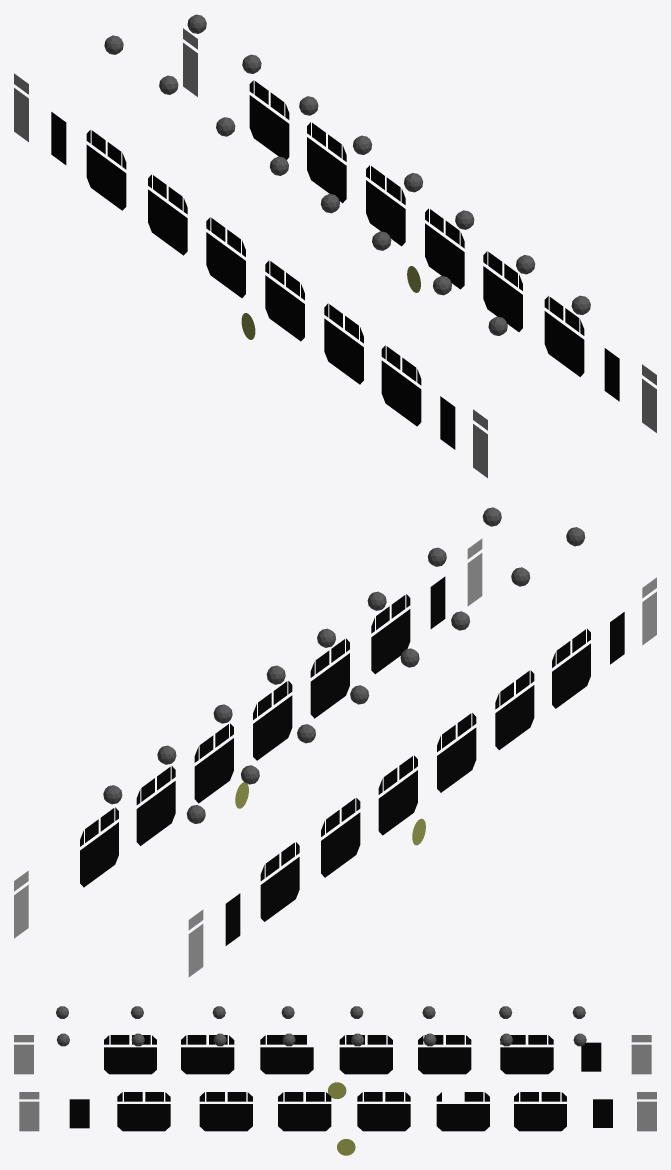
Rendered from lms-period3-open-composite-windows.dae.
3 renders of one model, top to bottom at view 1: azimuth 30°, elevation 25°; view 2: azimuth 150°, elevation 25°; view 3: azimuth 270°, elevation 25°, orthographic. The views are drawn at different scales.
Visible parts, largest first — view 1: Plane_229, Plane_233, Plane_218, Plane_213, Plane_225, Plane_231, Plane_230, Plane_215, Plane_216, Plane_232, Plane_222, Plane_214 (+7 smaller); view 2: Plane_216, Plane_225, Plane_230, Plane_232, Plane_222, Plane_214, Plane_215, Plane_231, Plane_229, Plane_218, Plane_213, Plane_233 (+6 smaller); view 3: Plane_216, Plane_222, Plane_215, Plane_218, Plane_213, Plane_229, Plane_232, Plane_230, Plane_225, Plane_233, Plane_231, Plane_214 (+9 smaller).
Boxes of the visible parts, left/top/right/bottom form: Plane_229: left=86, top=130, right=126, bottom=210; Plane_233: left=381, top=345, right=421, bottom=426; Plane_218: left=544, top=296, right=584, bottom=376; Plane_213: left=249, top=80, right=289, bottom=159; Plane_225: left=148, top=174, right=187, bottom=255; Plane_231: left=265, top=260, right=304, bottom=341; Plane_230: left=206, top=217, right=245, bottom=297; Plane_215: left=366, top=165, right=405, bottom=246; Plane_216: left=425, top=208, right=464, bottom=289; Plane_232: left=324, top=303, right=363, bottom=384; Plane_222: left=483, top=251, right=522, bottom=331; Plane_214: left=307, top=122, right=346, bottom=203; Plane_216: left=253, top=681, right=292, bottom=760; Plane_225: left=321, top=798, right=360, bottom=877; Plane_230: left=378, top=755, right=417, bottom=835; Plane_232: left=495, top=670, right=534, bottom=750; Plane_222: left=310, top=638, right=349, bottom=718; Plane_214: left=136, top=766, right=175, bottom=845; Plane_215: left=194, top=723, right=233, bottom=803; Plane_231: left=437, top=713, right=476, bottom=792; Plane_229: left=260, top=842, right=299, bottom=921; Plane_218: left=371, top=594, right=410, bottom=674; Plane_213: left=80, top=807, right=118, bottom=887; Plane_233: left=552, top=628, right=590, bottom=708; Plane_216: left=278, top=1092, right=331, bottom=1131; Plane_222: left=199, top=1092, right=252, bottom=1131; Plane_215: left=357, top=1092, right=410, bottom=1131; Plane_218: left=117, top=1092, right=170, bottom=1131; Plane_213: left=514, top=1092, right=566, bottom=1131; Plane_229: left=500, top=1035, right=553, bottom=1074; Plane_232: left=181, top=1035, right=234, bottom=1074; Plane_230: left=339, top=1035, right=392, bottom=1074; Plane_225: left=418, top=1035, right=471, bottom=1074; Plane_233: left=104, top=1035, right=156, bottom=1074; Plane_231: left=260, top=1035, right=313, bottom=1074; Plane_214: left=436, top=1092, right=489, bottom=1131.
Bounding box in the file's own units: 2.02 × 9.65 × 1.78.
